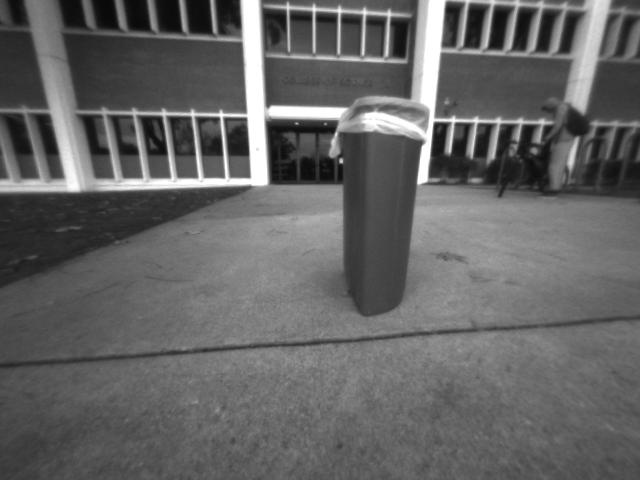trashcan_open: (333, 88, 449, 316)
